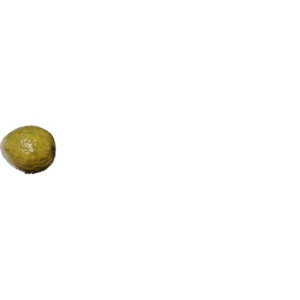goiaba: (1, 120, 60, 175)
